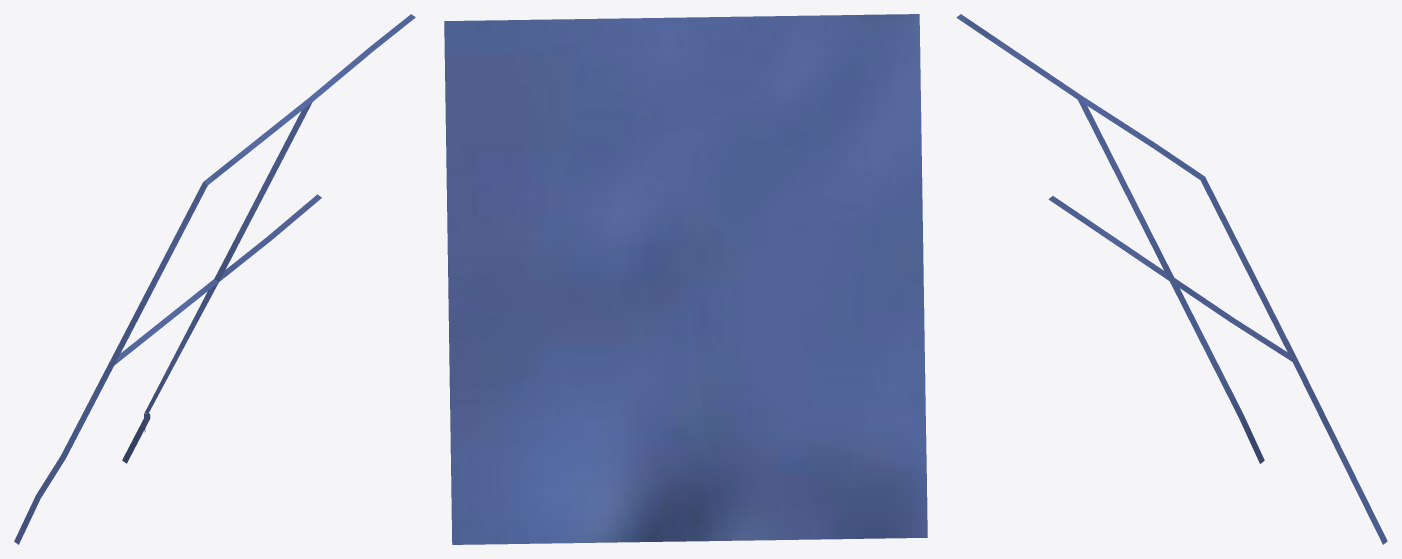
The picture shows the model from 3 angles, left to right: view 1: azimuth 30°, elevation 25°; view 2: azimuth 150°, elevation 25°; view 3: azimuth 270°, elevation 25°; orthographic projection. The views are drawn at different scales.
Size of the model in its own units: 9804 by 8914 by 8361.
1 material, 1 textured.
